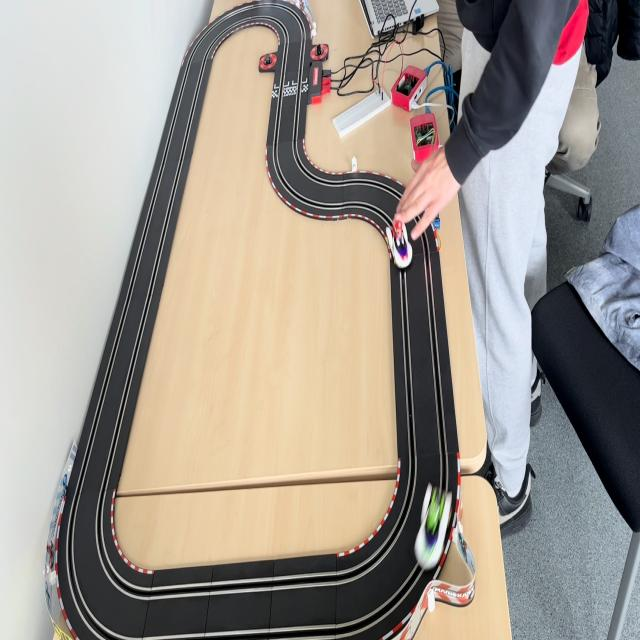mario: (384, 212, 415, 274)
yoshi: (418, 482, 452, 566)
